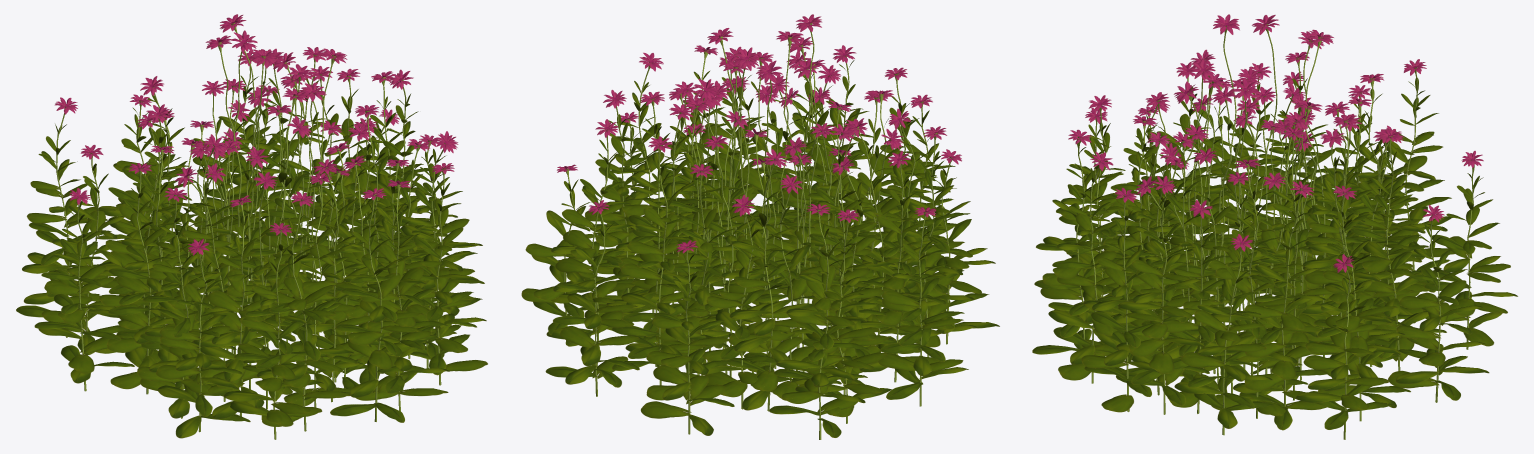
The model's file is vegflower.glb.
3 renders of one model, left to right at view 1: azimuth 30°, elevation 25°; view 2: azimuth 150°, elevation 25°; view 3: azimuth 270°, elevation 25°, orthographic.
Visible parts, largest first — view 1: flower; view 2: flower; view 3: flower.
Boxes of the visible parts, x1=… form: flower: x1=16, y1=14, x2=487, y2=439; flower: x1=521, y1=14, x2=999, y2=439; flower: x1=1032, y1=14, x2=1517, y2=439.
Bounding box in the file's own units: 5.58 × 4.32 × 5.76.
3 materials, 3 textured.
